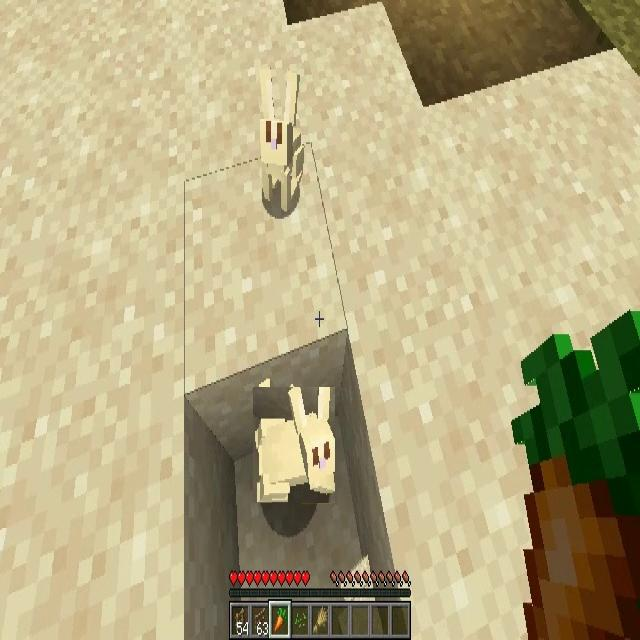rabbit: (254, 388, 336, 503), (259, 78, 305, 209)
